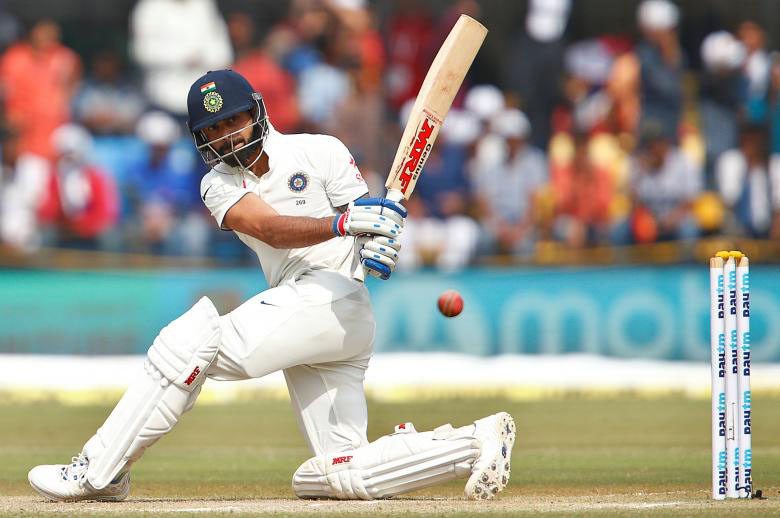Sweepshot: (20, 13, 536, 502)
